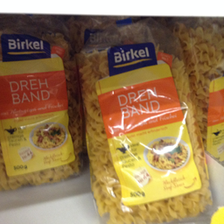pasta: (76, 20, 216, 224), (2, 15, 85, 188)
